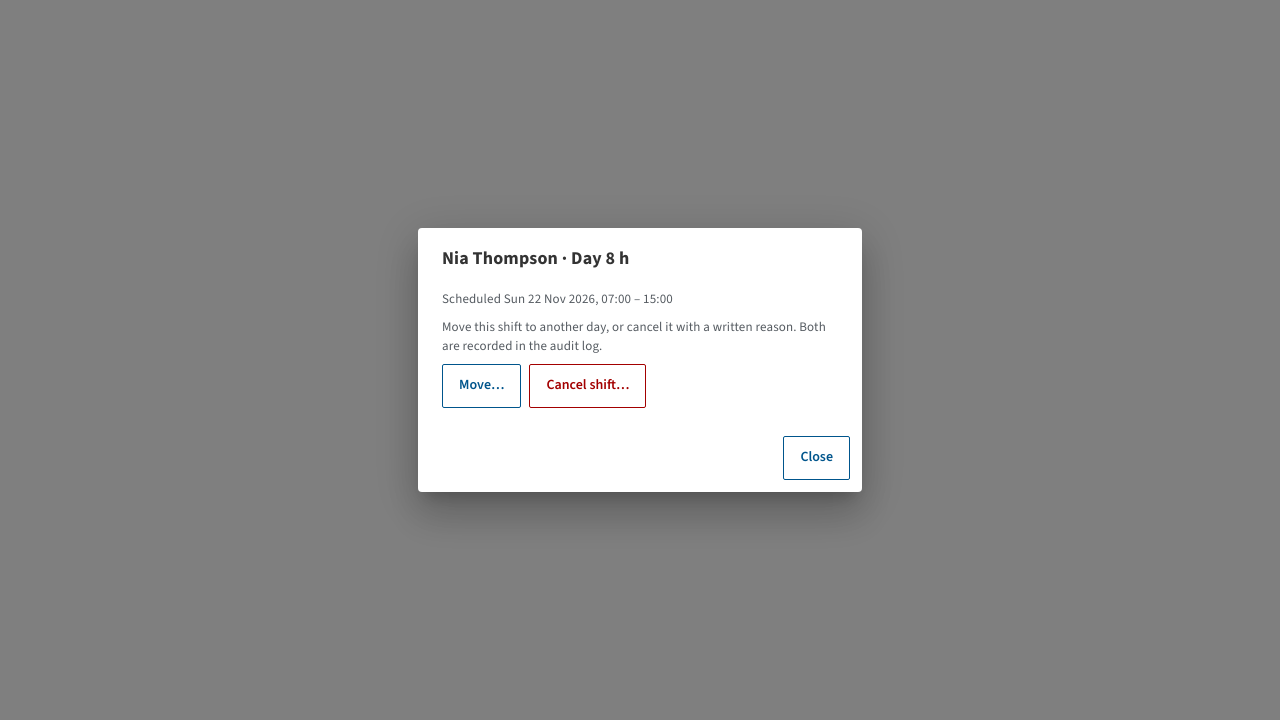
it: the safeguards on a move › shows the title and detail when the api refuses the move (shift-started)
The width and height of the screenshot is (1280, 720).
Click the button "Move…": (482,386) [442,364,522,408]
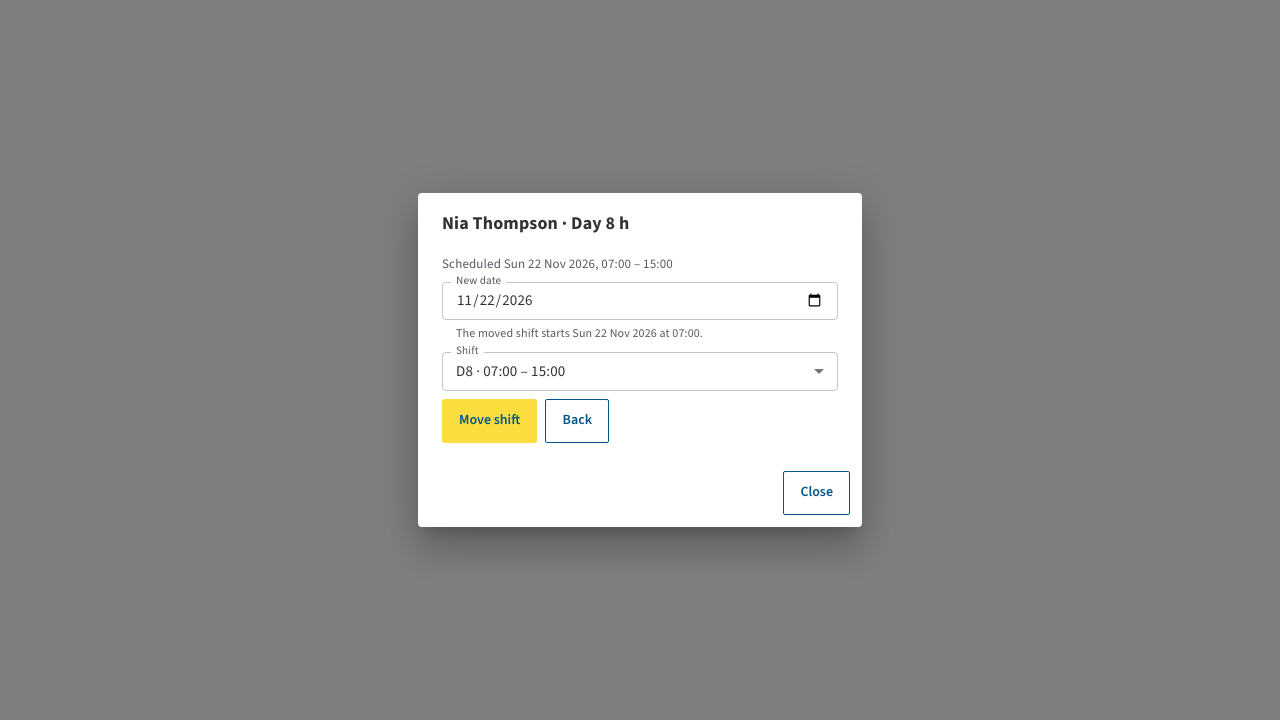
Click the button "Move shift": (490,421) [442,399,537,443]
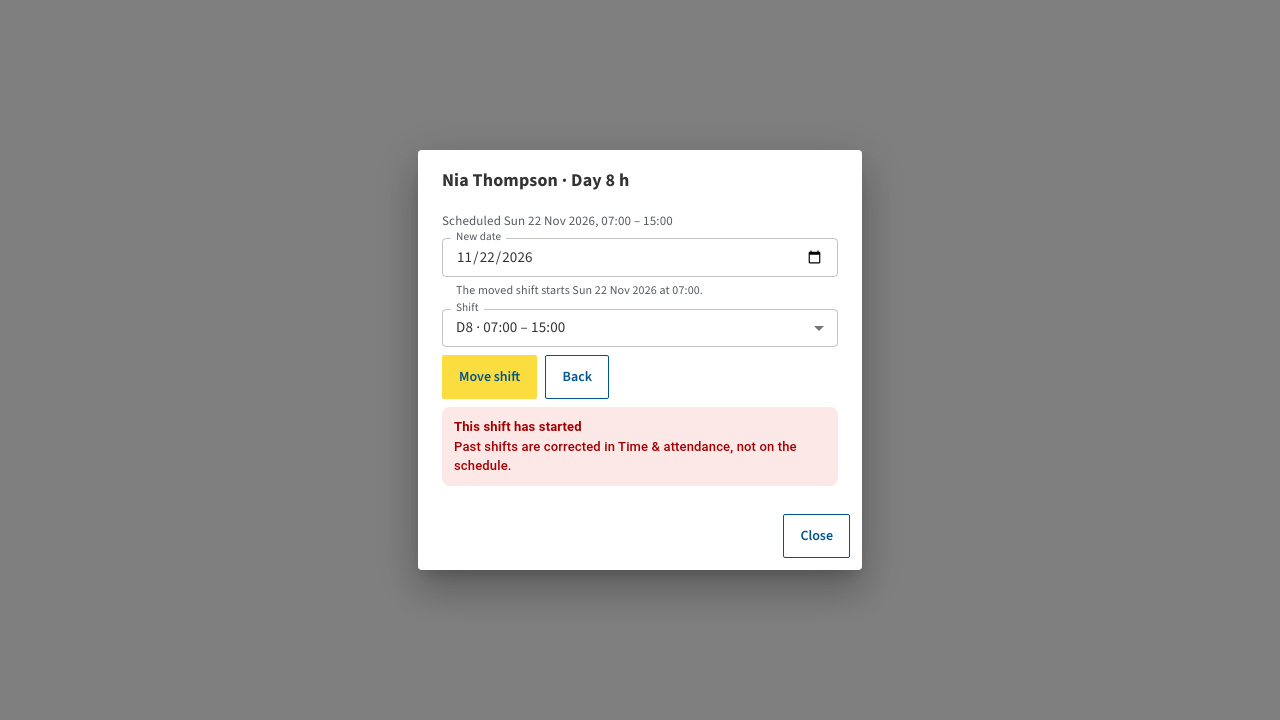
Now the text "This shift has started" is shown, box [454,419,582,434]
Now the text "Past shifts are corrected in Time & attendance, not on the schedule." is shown, box [454,437,826,476]
